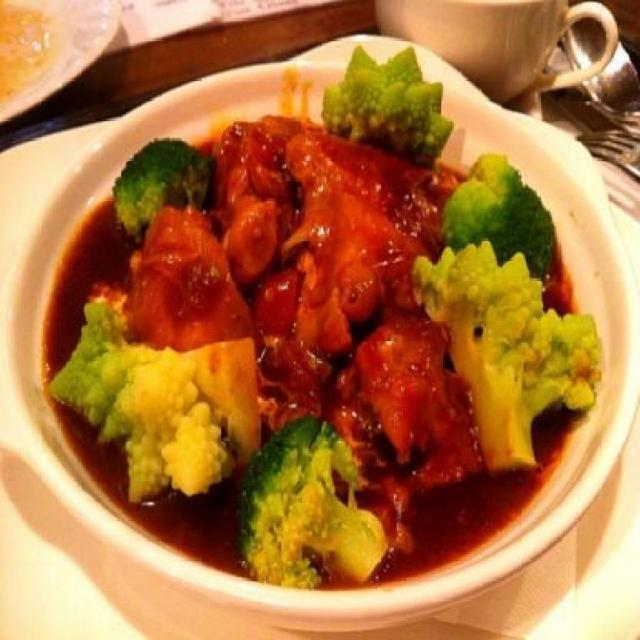Broccoli: (48, 300, 260, 506), (412, 239, 597, 472), (237, 417, 386, 591), (319, 46, 452, 162), (440, 148, 552, 281), (112, 136, 211, 238)
